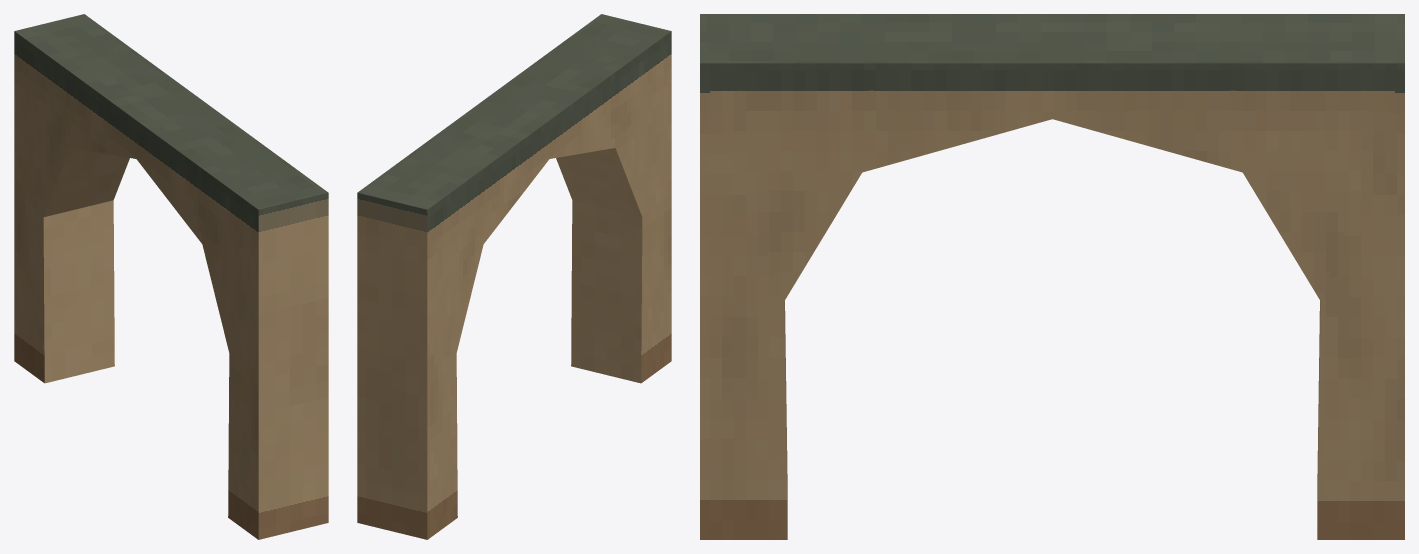
The model's file is Arch.fbx.
3 views of the same model, side by side, from view 1: azimuth 30°, elevation 25°; view 2: azimuth 150°, elevation 25°; view 3: azimuth 270°, elevation 25° (orthographic). The views are drawn at different scales.
Visible parts, largest first — view 1: Arch; view 2: Arch; view 3: Arch.
Part boxes in pixels (x1,y1,x2,y2): Arch: (14, 14, 328, 539); Arch: (357, 14, 671, 539); Arch: (700, 14, 1404, 539).
Size of the model in its own units: 200 by 900 by 1206.
